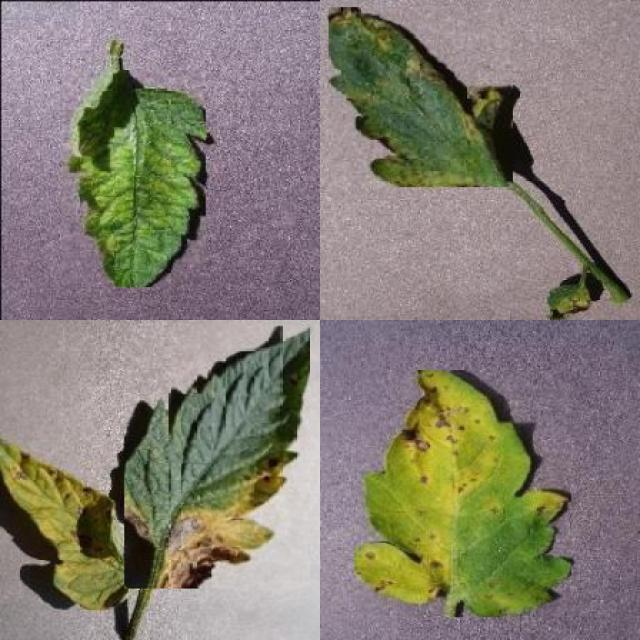Early Blight: (124, 326, 310, 588)
Mosaic Virus: (61, 70, 206, 287)
Septoria: (355, 370, 571, 617), (328, 7, 513, 187)
